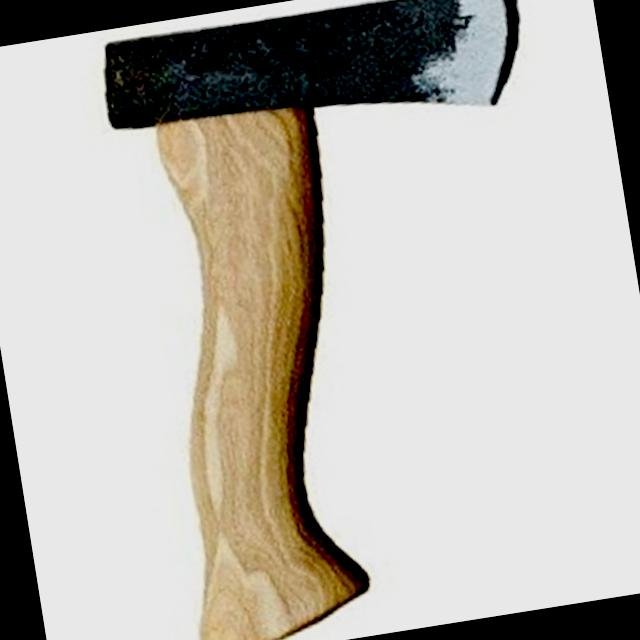ax: (80, 0, 615, 640)
